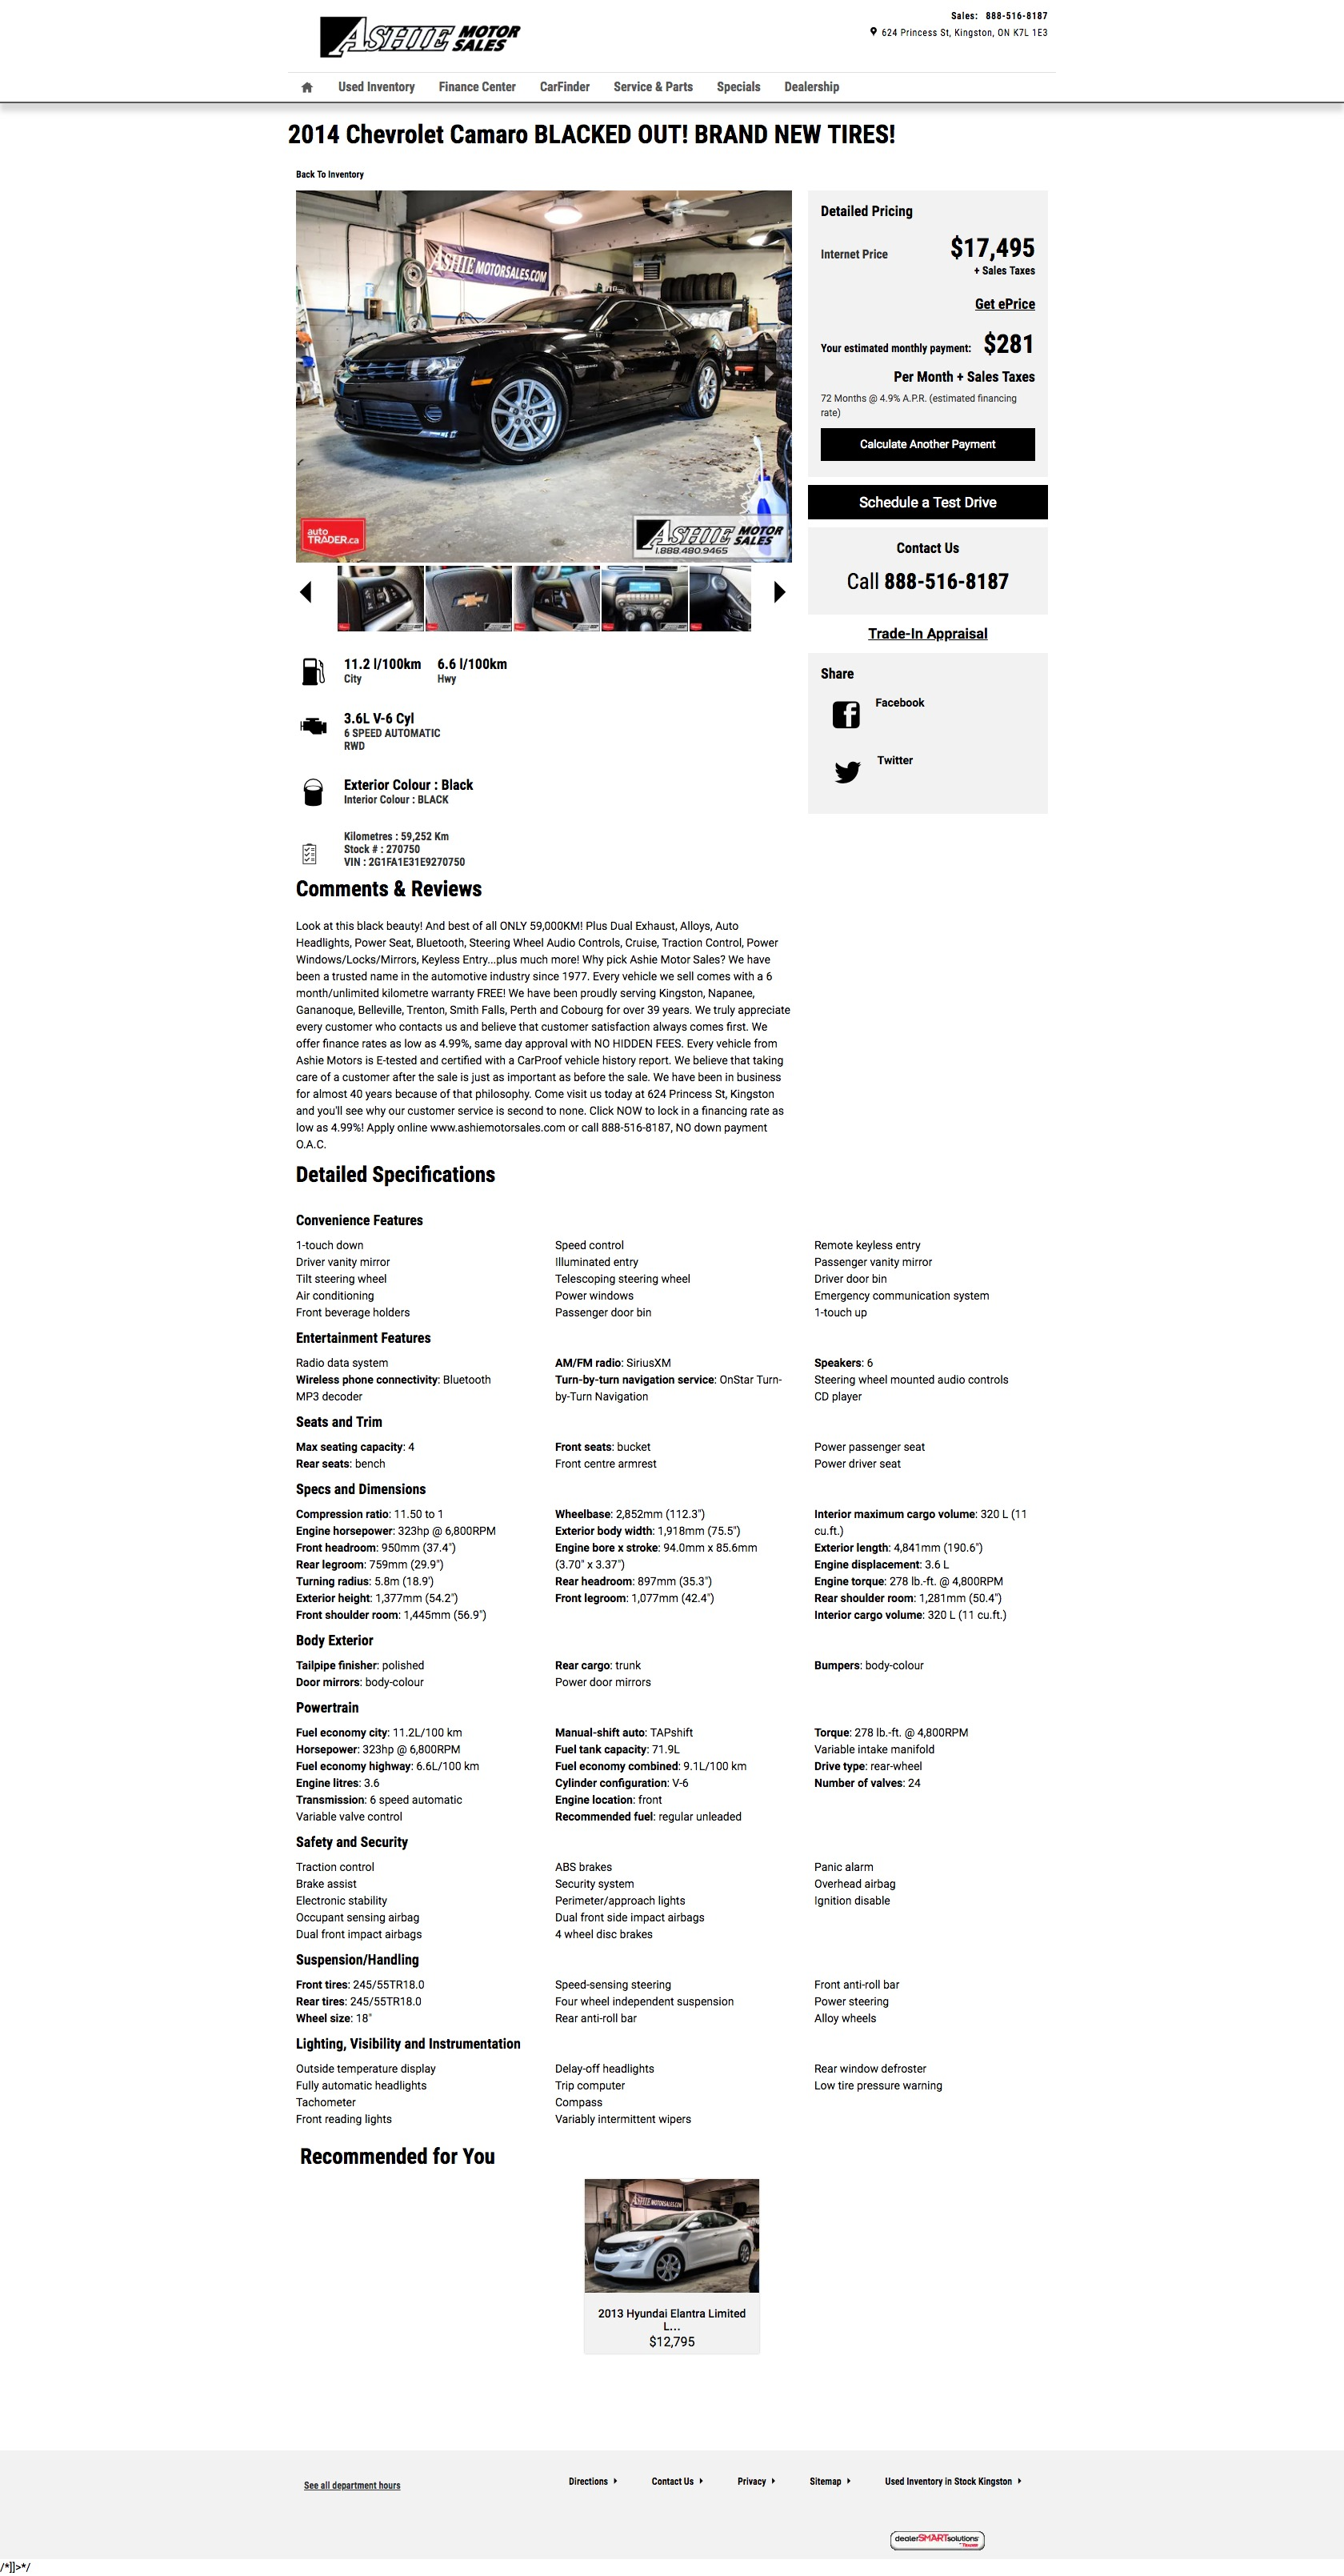car: (772, 579, 787, 608)
